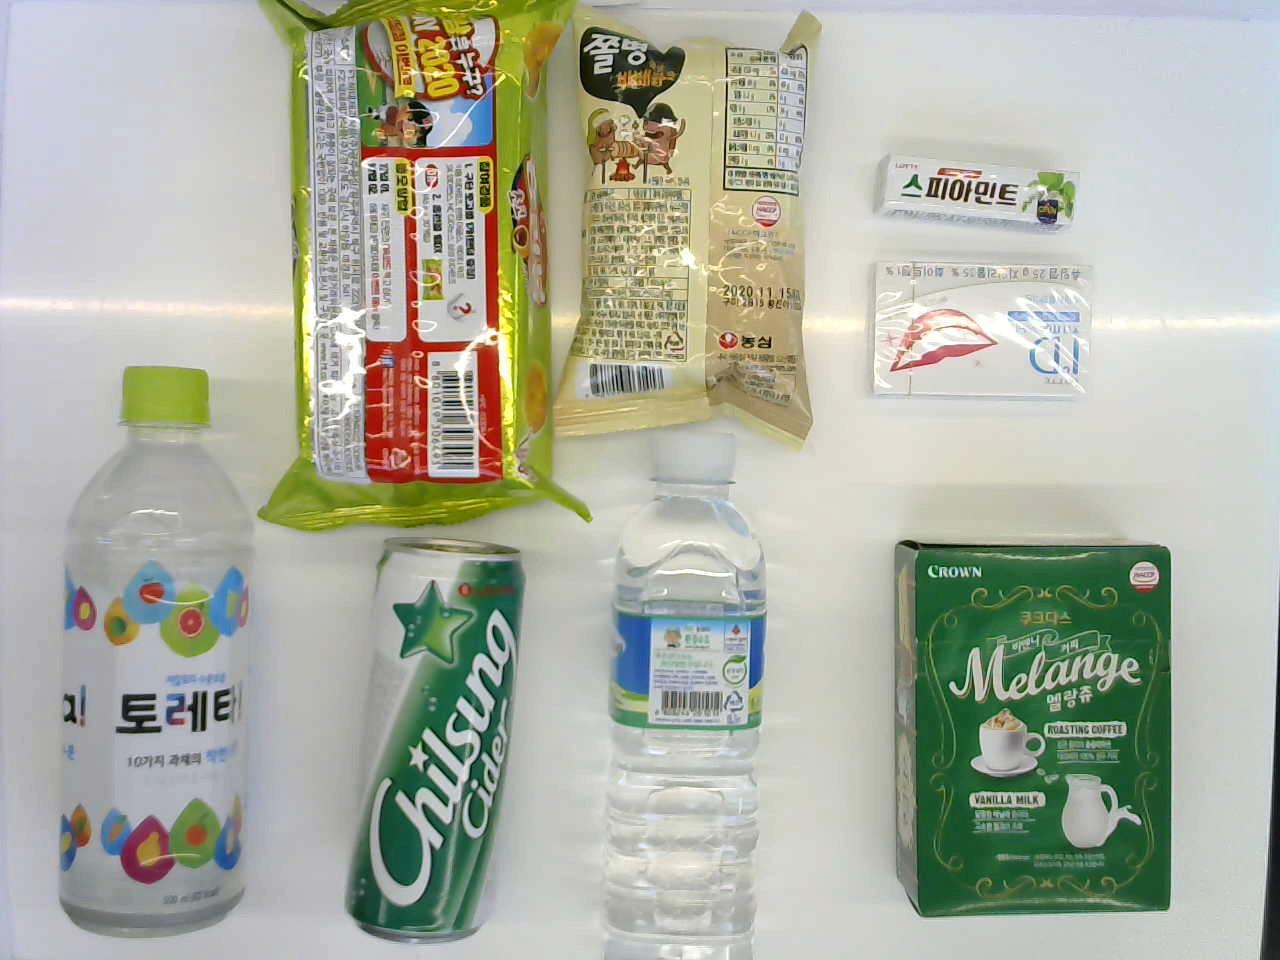ID_gum: (859, 245, 1110, 418)
cidar: (350, 541, 538, 946)
couque_coffee: (888, 507, 1182, 919)
homerunball: (259, 0, 585, 566)
jjolbyung_ori: (568, 10, 837, 453)
samdasu: (607, 425, 776, 949)
spearmint: (863, 142, 1080, 232)
toreta: (38, 349, 262, 932)
